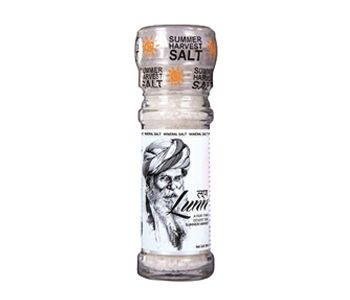glass_bottleww: (107, 17, 254, 300)
